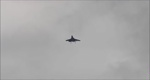maybay_muctieu: (65, 34, 81, 45)
